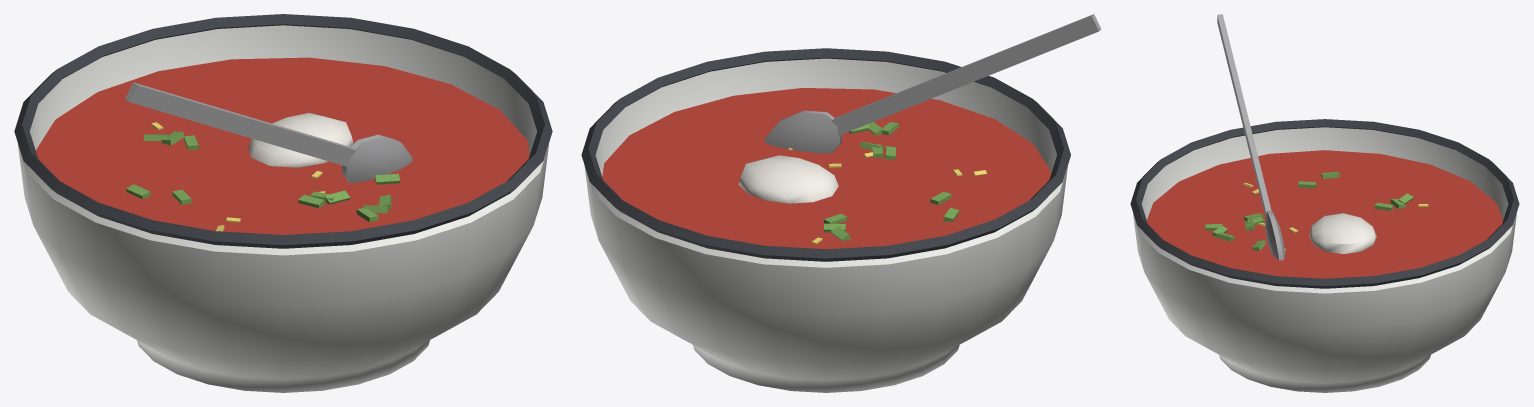
File: cook_soup.glb
3 views of the same model, side by side, from view 1: azimuth 30°, elevation 25°; view 2: azimuth 150°, elevation 25°; view 3: azimuth 270°, elevation 25° (orthographic). The views are drawn at different scales.
Visible parts, largest first — view 1: body; view 2: body; view 3: body.
Boxes of the visible parts, bbox=[...] form: body: bbox=[14, 14, 552, 392]; body: bbox=[581, 14, 1101, 392]; body: bbox=[1130, 14, 1519, 392].
Bounding box in the file's own units: 0.0628 × 0.0454 × 0.0628.
